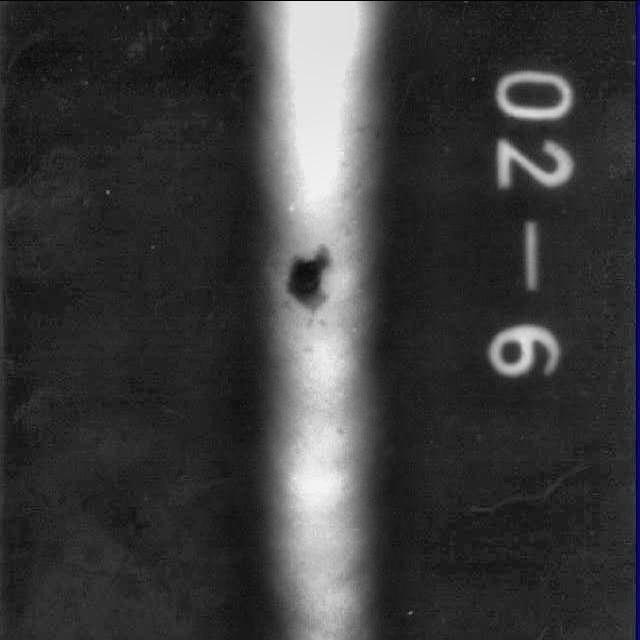Slag: (278, 240, 350, 316)
